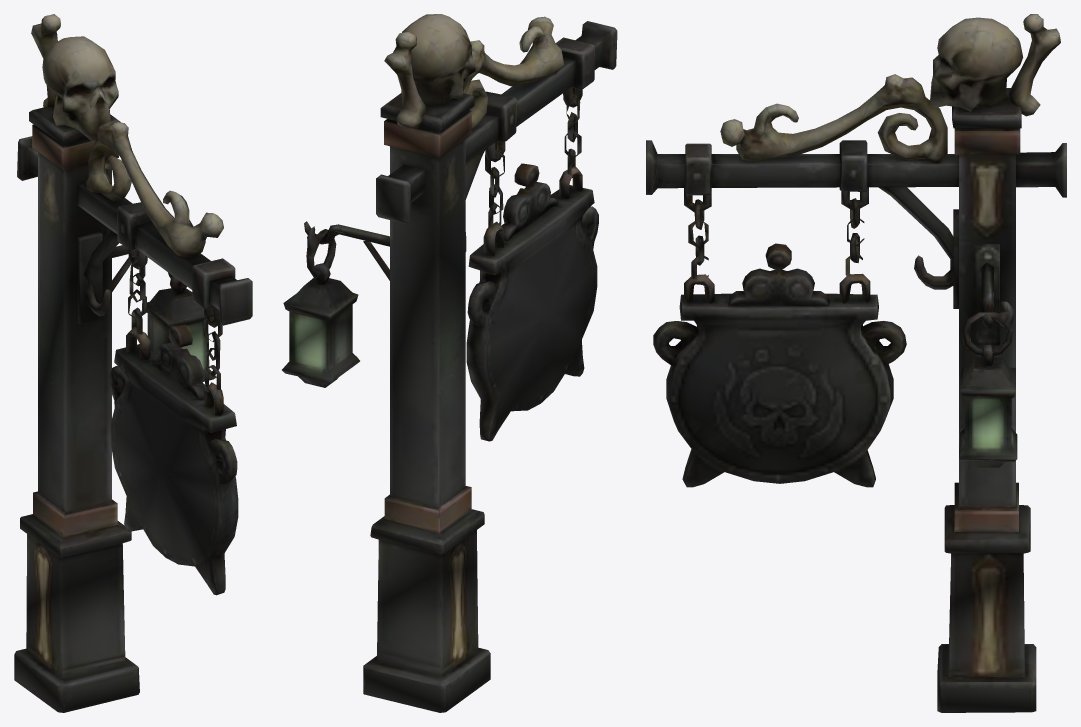
The model's file is alch_station_sign.glb.
3 renders of one model, left to right at view 1: azimuth 30°, elevation 25°; view 2: azimuth 150°, elevation 25°; view 3: azimuth 270°, elevation 25°, orthographic. The views are drawn at different scales.
Parts seen in each view (by area): view 1: tripo_node_d72dc270-5170-47ab-8114-5e3a19f00037; view 2: tripo_node_d72dc270-5170-47ab-8114-5e3a19f00037; view 3: tripo_node_d72dc270-5170-47ab-8114-5e3a19f00037.
Part boxes in pixels (box(x1,y1,x2,y2)): tripo_node_d72dc270-5170-47ab-8114-5e3a19f00037: box(14, 14, 252, 712); tripo_node_d72dc270-5170-47ab-8114-5e3a19f00037: box(282, 14, 617, 712); tripo_node_d72dc270-5170-47ab-8114-5e3a19f00037: box(646, 14, 1066, 712).
Bounding box in the file's own units: 0.2676 × 0.998 × 0.5644.
Materials: 1 (1 with a texture image).
